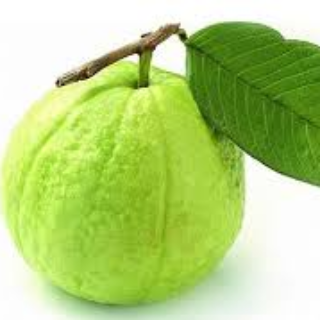oi: (1, 52, 254, 316)
